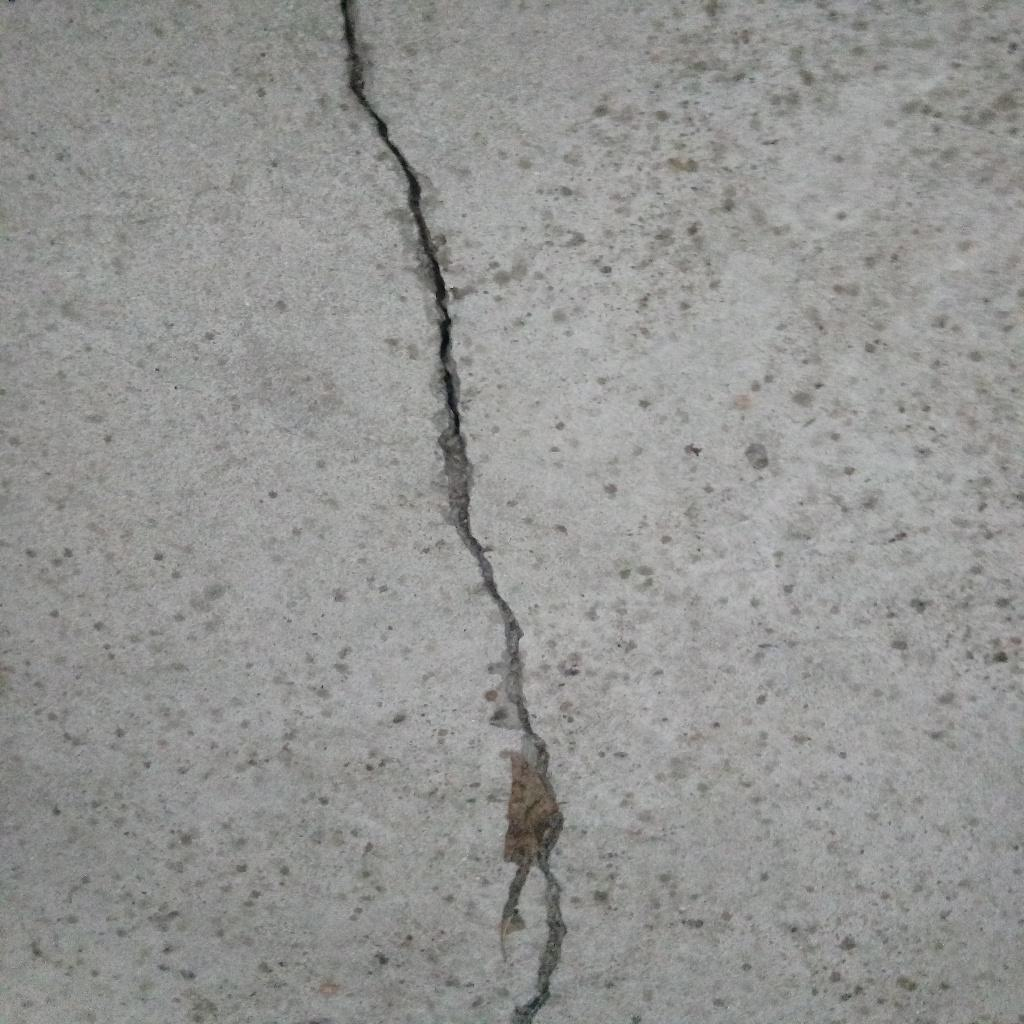Crack: (342, 1, 568, 1024)
